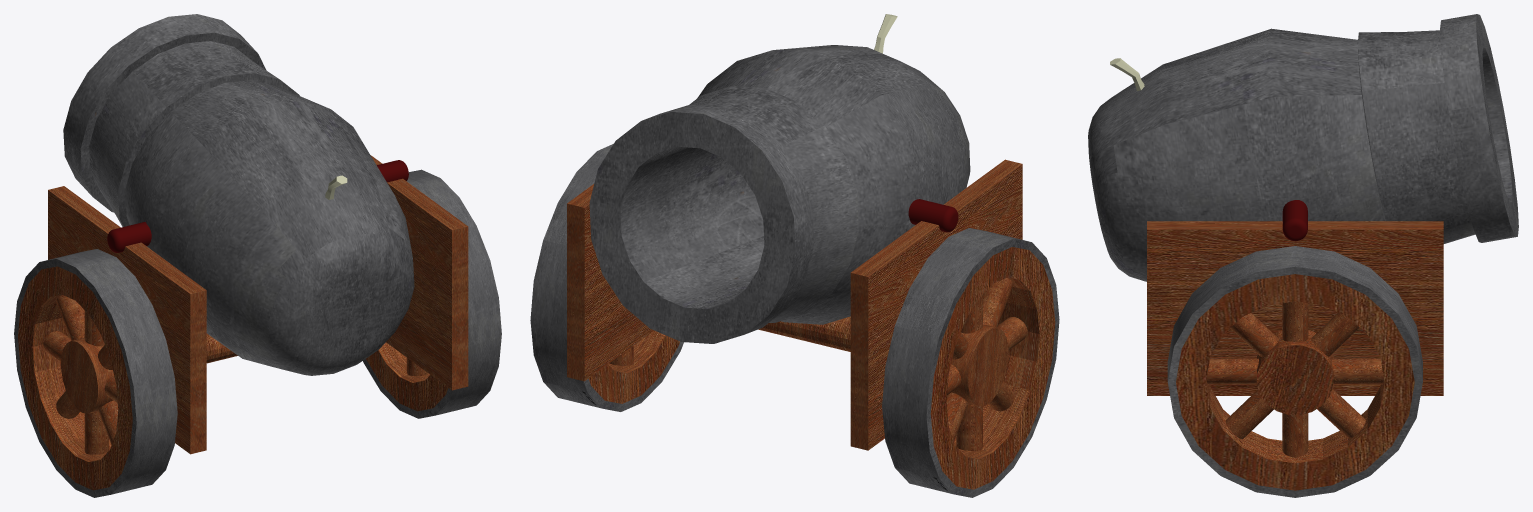
Rendered from KR_Model_Cannon_v04_Vang.fbx.
3 views of the same model, side by side, from view 1: azimuth 30°, elevation 25°; view 2: azimuth 150°, elevation 25°; view 3: azimuth 270°, elevation 25° (orthographic). The views are drawn at different scales.
Visible parts, largest first — view 1: cannon, LeftW, plank1, plank, RightW, pCylinder1, pCylinder4, pCylinder2, metalholder1, pCylinder3, pCylinder5; view 2: cannon, LeftW, plank1, RightW, plank, pCylinder1 (×2), pCylinder5, pCylinder2, metalholder1, pCylinder3, pCylinder4; view 3: cannon, RightW, plank, pCylinder1, pCylinder3, pCylinder4, pCylinder5, pCylinder2, metalholder.
Part boxes in pixels (x1,y1,x2,y2): cannon: [63, 14, 414, 375]; LeftW: [14, 249, 177, 497]; plank1: [48, 186, 206, 454]; plank: [370, 155, 468, 390]; RightW: [363, 169, 501, 418]; pCylinder1: [61, 337, 113, 413]; pCylinder4: [56, 295, 118, 444]; pCylinder2: [84, 310, 108, 454]; metalholder1: [107, 222, 151, 252]; pCylinder3: [43, 331, 117, 403]; pCylinder5: [56, 345, 112, 418]; cannon: [589, 45, 970, 343]; LeftW: [882, 228, 1059, 497]; plank1: [850, 159, 1022, 450]; RightW: [530, 144, 683, 411]; plank: [567, 184, 653, 381]; pCylinder1 (×2): [758, 316, 1008, 406]; pCylinder5: [946, 278, 1013, 440]; pCylinder2: [956, 294, 982, 450]; metalholder1: [908, 199, 958, 232]; pCylinder3: [947, 317, 1027, 395]; pCylinder4: [952, 332, 1014, 411]; cannon: [1088, 14, 1518, 281]; RightW: [1167, 246, 1422, 497]; plank: [1147, 221, 1443, 395]; pCylinder1: [1256, 330, 1333, 414]; pCylinder3: [1206, 358, 1383, 384]; pCylinder4: [1230, 313, 1365, 438]; pCylinder5: [1225, 312, 1359, 439]; pCylinder2: [1282, 301, 1308, 457]; metalholder: [1282, 200, 1307, 241].
Size of the model in its own units: 2.85 by 2.72 by 2.8.
Materials: 4 (2 with a texture image).
